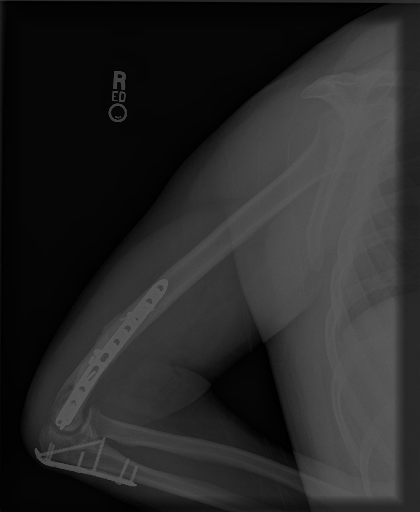implant: (55, 278, 172, 428), (35, 437, 144, 485)
